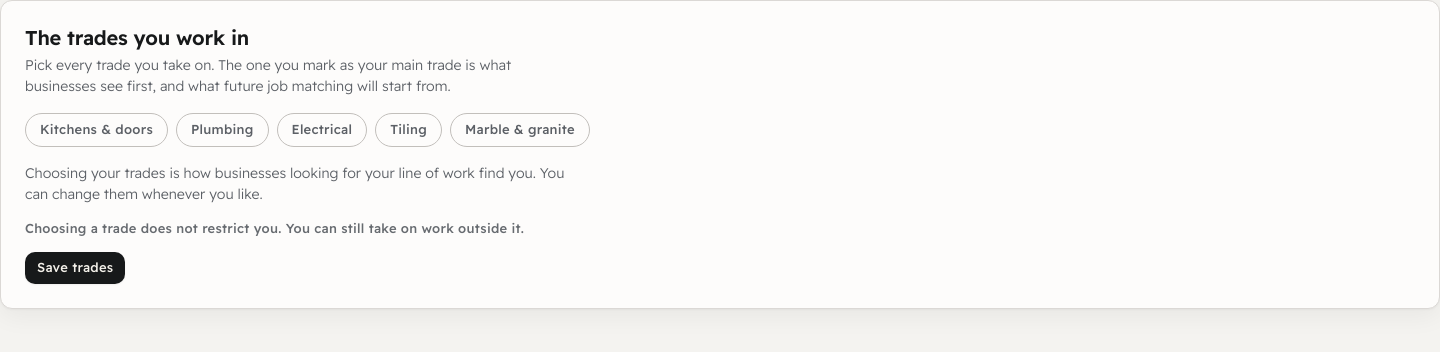
TradeSelector › makes the first trade selected the primary one
This screenshot has width=1440, height=352.
Click the button "Plumbing": (222, 130) [176,113,268,147]
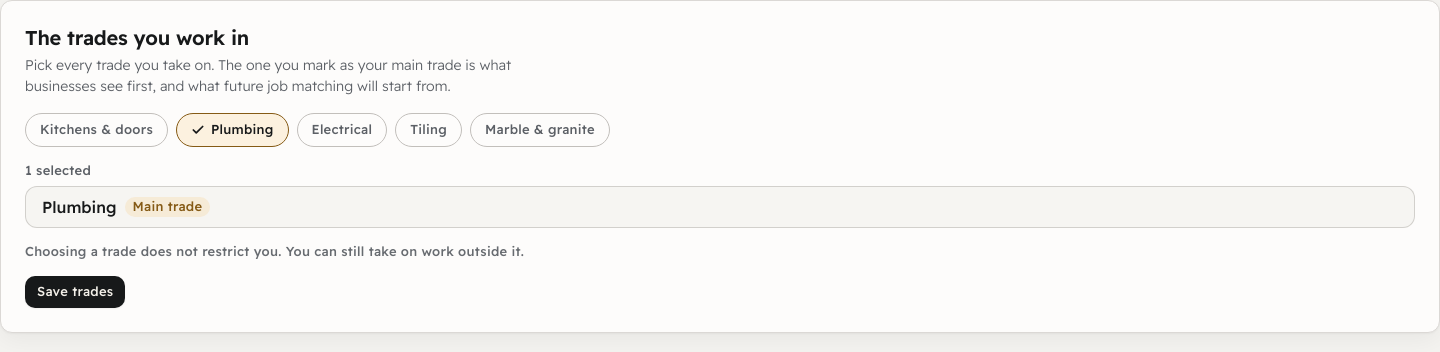
expect the text "Main trade" is shown: met, box [124,197,210,217]
